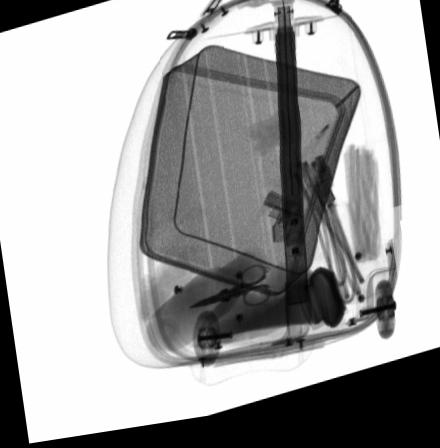Scissors: (188, 270, 272, 315)
